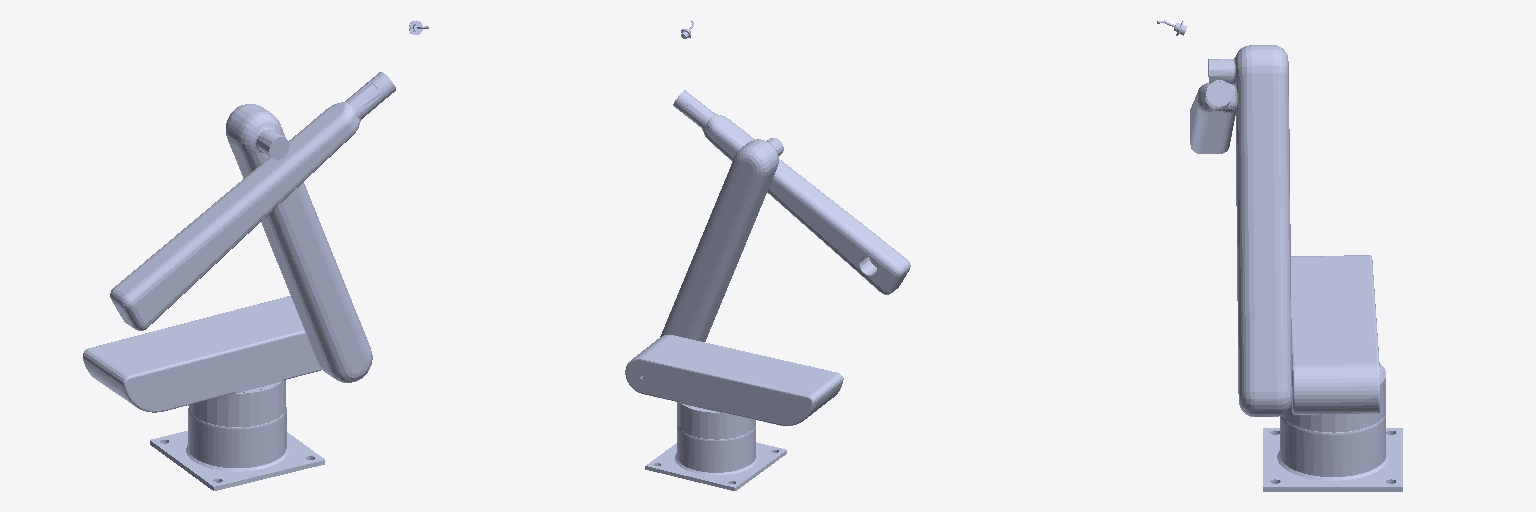
URDF robot description (project_model):
<?xml version="1.0" encoding="utf-8" ?>
<!-- This URDF was automatically created by SolidWorks to URDF Exporter! Originally created by [author] ([email redacted]) 
     Commit Version: 1.6.0-4-g7f85cfe  Build Version: 1.6.7995.38578
     For more information, please see http://wiki.ros.org/sw_urdf_exporter -->
<robot name="project_model">
    <link name="world" />
    <joint name="base_to_world" type="fixed">
        <parent link="world" />
        <child link="base_link" />
        <origin xyz="0 0 0.2" rpy="0 0 0" />
    </joint>
    <link name="base_link">
        <inertial>
            <origin xyz="0.0464613483877656 0.0140707076805598 0.0203480222228135" rpy="0 0 0" />
            <mass value="30.1843359271744" />
            <inertia ixx="0.502694922185776" ixy="-1.48230765769498E-18" ixz="2.78127629703785E-17" iyy="0.502694922185776" iyz="-1.46381053222201E-17" izz="0.740436652883217" />
        </inertial>
        <visual>
            <origin xyz="0 0 0" rpy="0 0 0" />
            <geometry>
                <mesh filename="package://project_model/meshes/base_link.STL" />
            </geometry>
            <material name="">
                <color rgba="0.792156862745098 0.819607843137255 0.933333333333333 1" />
            </material>
        </visual>
        <collision>
            <origin xyz="0 0 0" rpy="0 0 0" />
            <geometry>
                <mesh filename="package://project_model/meshes/base_link.STL" />
            </geometry>
        </collision>
    </link>
    <link name="Link1">
        <inertial>
            <origin xyz="0.0793572464538077 -0.00124591678102029 0.220458925407225" rpy="0 0 0" />
            <mass value="85.6566874789417" />
            <inertia ixx="1.54688392454027" ixy="-0.0456850642678114" ixz="-0.35476451485234" iyy="6.7389510767348" iyz="0.00394956847462728" izz="6.77710018420679" />
        </inertial>
        <visual>
            <origin xyz="0 0 0" rpy="0 0 0" />
            <geometry>
                <mesh filename="package://project_model/meshes/Link1.STL" />
            </geometry>
            <material name="">
                <color rgba="0.792156862745098 0.819607843137255 0.933333333333333 1" />
            </material>
        </visual>
        <collision>
            <origin xyz="0 0 0" rpy="0 0 0" />
            <geometry>
                <mesh filename="package://project_model/meshes/Link1.STL" />
            </geometry>
        </collision>
    </link>
    <link name="Link2">
        <inertial>
            <origin xyz="-0.594272292717518 4.6711666756849E-09 0.262790079429743" rpy="0 0 0" />
            <mass value="51.8329786183893" />
            <inertia ixx="0.355230142854774" ixy="3.6403220299297E-09" ixz="0.211286622831184" iyy="8.51616763421488" iyz="2.1000124050356E-08" izz="8.45194963606366" />
        </inertial>
        <visual>
            <origin xyz="0 0 0" rpy="0 0 0" />
            <geometry>
                <mesh filename="package://project_model/meshes/Link2.STL" />
            </geometry>
            <material name="">
                <color rgba="0.792156862745098 0.819607843137255 0.933333333333333 1" />
            </material>
        </visual>
        <collision>
            <origin xyz="0 0 0" rpy="0 0 0" />
            <geometry>
                <mesh filename="package://project_model/meshes/Link2.STL" />
            </geometry>
        </collision>
    </link>
    <link name="Link3">
        <inertial>
            <origin xyz="-0.440004422742138 -0.0153190704328603 0.0756035871012935" rpy="0 0 0" />
            <mass value="27.6329069261582" />
            <inertia ixx="0.105723642243395" ixy="-0.133061351411289" ixz="-0.00842003783200069" iyy="3.88562710428054" iyz="-0.00029340463766086" izz="3.89906166668563" />
        </inertial>
        <visual>
            <origin xyz="0 0 0" rpy="0 0 0" />
            <geometry>
                <mesh filename="package://project_model/meshes/Link3_3.STL" />
            </geometry>
            <material name="">
                <color rgba="0.792156862745098 0.819607843137255 0.933333333333333 1" />
            </material>
        </visual>
        <collision>
            <origin xyz="0 0 0" rpy="0 0 0" />
            <geometry>
                <mesh filename="package://project_model/meshes/Link3_3.STL" />
            </geometry>
        </collision>
    </link>
    <link name="Link4">
        <inertial>
            <origin xyz="8.88178419700125E-16 -8.32667268468867E-16 0.137913845594654" rpy="0 0 0" />
            <mass value="0.850036432245057" />
            <inertia ixx="0.00243540489143828" ixy="5.42101086242752E-20" ixz="-1.02592630571441E-17" iyy="0.00243540489143828" iyz="1.08826793063233E-17" izz="0.000840064820813022" />
        </inertial>
        <visual>
            <origin xyz="0 0 0" rpy="0 0 0" />
            <geometry>
                <mesh filename="package://project_model/meshes/Link4_2.STL" />
            </geometry>
            <material name="">
                <color rgba="0.792156862745098 0.819607843137255 0.933333333333333 1" />
            </material>
        </visual>
        <collision>
            <origin xyz="0 0 0" rpy="0 0 0" />
            <geometry>
                <mesh filename="package://project_model/meshes/Link4_2.STL" />
            </geometry>
        </collision>
    </link>
    <link name="Link5">
        <inertial>
            <origin xyz="-1.49441394814431E-07 4.70286854292734E-07 0.148908337541607" rpy="0 0 0" />
            <mass value="1.02538589602909" />
            <inertia ixx="0.00421724348647574" ixy="2.57301639363728E-06" ixz="6.86480086563236E-08" iyy="0.00421953119624286" iyz="3.04276409060288E-08" izz="0.00080534690693793" />
        </inertial>
        <visual>
            <origin xyz="0 0 0" rpy="0 0 0" />
            <geometry>
                <mesh filename="package://project_model/meshes/Link5_4.STL" />
            </geometry>
            <material name="">
                <color rgba="0.792156862745098 0.819607843137255 0.933333333333333 1" />
            </material>
        </visual>
        <collision>
            <origin xyz="0 0 0" rpy="0 0 0" />
            <geometry>
                <mesh filename="package://project_model/meshes/Link5_4.STL" />
            </geometry>
        </collision>
    </link>
    <link name="Link6">
        <inertial>
            <origin xyz="7.86188358858908E-09 -0.105371321991731 -0.0162962824427068" rpy="0 0 0" />
            <mass value="1.55208868418314" />
            <inertia ixx="0.00977140293103126" ixy="1.39499086587724E-09" ixz="1.00101813773831E-11" iyy="0.0031307636496264" iyz="3.58711938752416E-09" izz="0.0081378067900355" />
        </inertial>
        <visual>
            <origin xyz="0 0 0" rpy="0 0 0" />
            <geometry>
                <mesh filename="package://project_model/meshes/Link6_6.STL" />
            </geometry>
            <material name="">
                <color rgba="0.792156862745098 0.819607843137255 0.933333333333333 1" />
            </material>
        </visual>
        <collision>
            <origin xyz="0 0 0" rpy="0 0 0" />
            <geometry>
                <mesh filename="package://project_model/meshes/Link6_6.STL" />
            </geometry>
        </collision>
    </link>
    <link name="Endeffektor">
        <inertial>
            <origin xyz="-0.000523241226428439 1.13688218261743E-06 -0.0732819569846882" rpy="0 0 0" />
            <mass value="0.0538557964417455" />
            <inertia ixx="3.19873091994393E-05" ixy="6.26001110579541E-11" ixz="-2.1207796198611E-06" iyy="3.23944062299894E-05" iyz="-2.51147441159055E-10" izz="1.16801043927016E-05" />
        </inertial>
        <visual>
            <origin xyz="0 0 0" rpy="0 0 0" />
            <geometry>
                <mesh filename="package://project_model/meshes/Endeffektor.STL" />
            </geometry>
            <material name="">
                <color rgba="0.792156862745098 0.819607843137255 0.933333333333333 1" />
            </material>
        </visual>
        <collision>
            <origin xyz="0 0 0" rpy="0 0 0" />
            <geometry>
                <mesh filename="package://project_model/meshes/Endeffektor.STL" />
            </geometry>
        </collision>
    </link>
    <joint name="Joint1" type="revolute">
        <origin xyz="0.046461 0.014071 0.12658" rpy="0 0 -3.1126" />
        <parent link="base_link" />
        <child link="Link1" />
        <axis xyz="0 0 1" />
        <limit lower="-3.1416" upper="3.1416" effort="1000.0" velocity="0.5" />
        <dynamics damping="0.2" friction="0.4" />
    </joint>
    <joint name="Joint2" type="revolute">
        <origin xyz="-0.34871 0 0.25746" rpy="1.5708 1.077 3.1416" />
        <parent link="Link1" />
        <child link="Link2" />
        <axis xyz="0 0 1" />
        <limit lower="-1.0" upper="0.8" effort="1000.0" velocity="0.25" />
        <dynamics damping="5.0" friction="2.0" />
    </joint>
    <joint name="Joint3" type="revolute">
        <origin xyz="-1.0358 -0.6058 0.465" rpy="0 0 0" />
        <parent link="Link2" />
        <child link="Link3" />
        <axis xyz="0 0 1" />
        <limit lower="-2" upper="2" effort="1000.0" velocity="0.5" />
        <dynamics damping="0.1" friction="0.2" />
    </joint>
    <joint name="Joint4" type="revolute">
        <origin xyz="-0.0435 1.275 -0.025" rpy="-1.5708 0 0" />
        <parent link="Link3" />
        <child link="Link4" />
        <axis xyz="0 0 1" />
        <limit lower="-3" upper="3" effort="100.0" velocity="0.1" />
        <dynamics damping="0.1" friction="0.2" />
    </joint>
    <joint name="Joint5" type="revolute">
        <origin xyz="0 0 0" rpy="0 0 0" />
        <parent link="Link4" />
        <child link="Link5" />
        <axis xyz="0 0 1" />
        <limit lower="0" upper="0" effort="1000.0" velocity="0.5" />
        <dynamics damping="0.1" friction="0.2" />
    </joint>
    <joint name="Joint6" type="revolute">
        <origin xyz="0.00008 -0.00005 0.2068" rpy="0 0 0" />
        <parent link="Link5" />
        <child link="Link6" />
        <axis xyz="0 1 0" />
        <limit lower="-2" upper="2" effort="100.0" velocity="0.2" />
        <dynamics damping="0.2" friction="0.2" />
    </joint>
    <joint name="Endeffektor_Joint" type="revolute">
        <origin xyz="0 -0.15357 -0.016296" rpy="1.5708 0.90331 3.1416" />
        <parent link="Link6" />
        <child link="Endeffektor" />
        <axis xyz="0.18605 0.37106 0.90978" />
        <limit lower="0" upper="0" effort="1000.0" velocity="0.5" />
        <dynamics damping="0.1" friction="0.2" />
    </joint>
    <gazebo>
        <plugin name="gazebo_ros_control" filename="libgazebo_ros_control.so">
            <robotNamespace>/robshift</robotNamespace>
        </plugin>
    </gazebo>
    <transmission name="transmission_Joint1">
        <type>transmission_interface/SimpleTransmission</type>
        <joint name="Joint1">
            <hardwareInterface>EffortJointInterface</hardwareInterface>
        </joint>
        <actuator name="motor_Joint1">
            <hardwareInterface>EffortJointInterface</hardwareInterface>
            <mechanicalReduction>1</mechanicalReduction>
        </actuator>
    </transmission>
    <transmission name="transmission_Joint2">
        <type>transmission_interface/SimpleTransmission</type>
        <joint name="Joint2">
            <hardwareInterface>EffortJointInterface</hardwareInterface>
        </joint>
        <actuator name="motor_Joint2">
            <hardwareInterface>EffortJointInterface</hardwareInterface>
            <mechanicalReduction>1</mechanicalReduction>
        </actuator>
    </transmission>
    <transmission name="transmission_Joint3">
        <type>transmission_interface/SimpleTransmission</type>
        <joint name="Joint3">
            <hardwareInterface>EffortJointInterface</hardwareInterface>
        </joint>
        <actuator name="motor_Joint3">
            <hardwareInterface>EffortJointInterface</hardwareInterface>
            <mechanicalReduction>1</mechanicalReduction>
        </actuator>
    </transmission>
    <transmission name="transmission_Joint4">
        <type>transmission_interface/SimpleTransmission</type>
        <joint name="Joint4">
            <hardwareInterface>EffortJointInterface</hardwareInterface>
        </joint>
        <actuator name="motor_Joint4">
            <hardwareInterface>EffortJointInterface</hardwareInterface>
            <mechanicalReduction>1</mechanicalReduction>
        </actuator>
    </transmission>
    <transmission name="transmission_Joint5">
        <type>transmission_interface/SimpleTransmission</type>
        <joint name="Joint5">
            <hardwareInterface>EffortJointInterface</hardwareInterface>
        </joint>
        <actuator name="motor_Joint5">
            <hardwareInterface>EffortJointInterface</hardwareInterface>
            <mechanicalReduction>1</mechanicalReduction>
        </actuator>
    </transmission>
    <transmission name="transmission_Joint6">
        <type>transmission_interface/SimpleTransmission</type>
        <joint name="Joint6">
            <hardwareInterface>EffortJointInterface</hardwareInterface>
        </joint>
        <actuator name="motor_Joint6">
            <hardwareInterface>EffortJointInterface</hardwareInterface>
            <mechanicalReduction>1</mechanicalReduction>
        </actuator>
    </transmission>
    <transmission name="trans_Endeffektor_Joint">
        <type>transmission_interface/SimpleTransmission</type>
        <joint name="Endeffektor_Joint">
            <hardwareInterface>hardware_interface/EffortJointInterface</hardwareInterface>
        </joint>
        <actuator name="Endeffektor_Joint_motor">
            <hardwareInterface>hardware_interface/EffortJointInterface</hardwareInterface>
            <mechanicalReduction>1</mechanicalReduction>
        </actuator>
    </transmission>
</robot>

--- What the picture shows (computed from the rendered views, not written in the file) ---
3 views of the same robot in one strip: view 1: azimuth 30°, elevation 25°; view 2: azimuth 150°, elevation 25°; view 3: azimuth 270°, elevation 25° (orthographic).
Robot: project_model — 9 links, 8 joints (7 revolute, 1 fixed); root link world; default pose: every joint at zero.
Links seen in each view (by area): view 1: Link1, Link3, Link2, base_link; view 2: Link1, Link2, Link3, base_link; view 3: Link2, Link1, base_link, Link3, Link4.
Link boxes in pixels (x1,y1,x2,y2): Link1: (83, 296, 321, 426); Link3: (110, 82, 383, 330); Link2: (226, 104, 372, 382); base_link: (150, 407, 324, 490); Link1: (625, 335, 843, 439); Link2: (660, 138, 783, 341); Link3: (683, 98, 910, 294); base_link: (645, 425, 786, 490); Link2: (1208, 45, 1291, 416); Link1: (1282, 255, 1385, 432); base_link: (1263, 414, 1402, 491); Link3: (1190, 83, 1237, 153); Link4: (1206, 80, 1232, 107).
Size in the robot's own frame: 1.38 by 0.9242 by 2.07 metres.
Meshes: 8 distinct files referenced, 6 mesh visuals loaded (6 binary STL); not drawn: 2 (reference not matched to a file when rendering).
